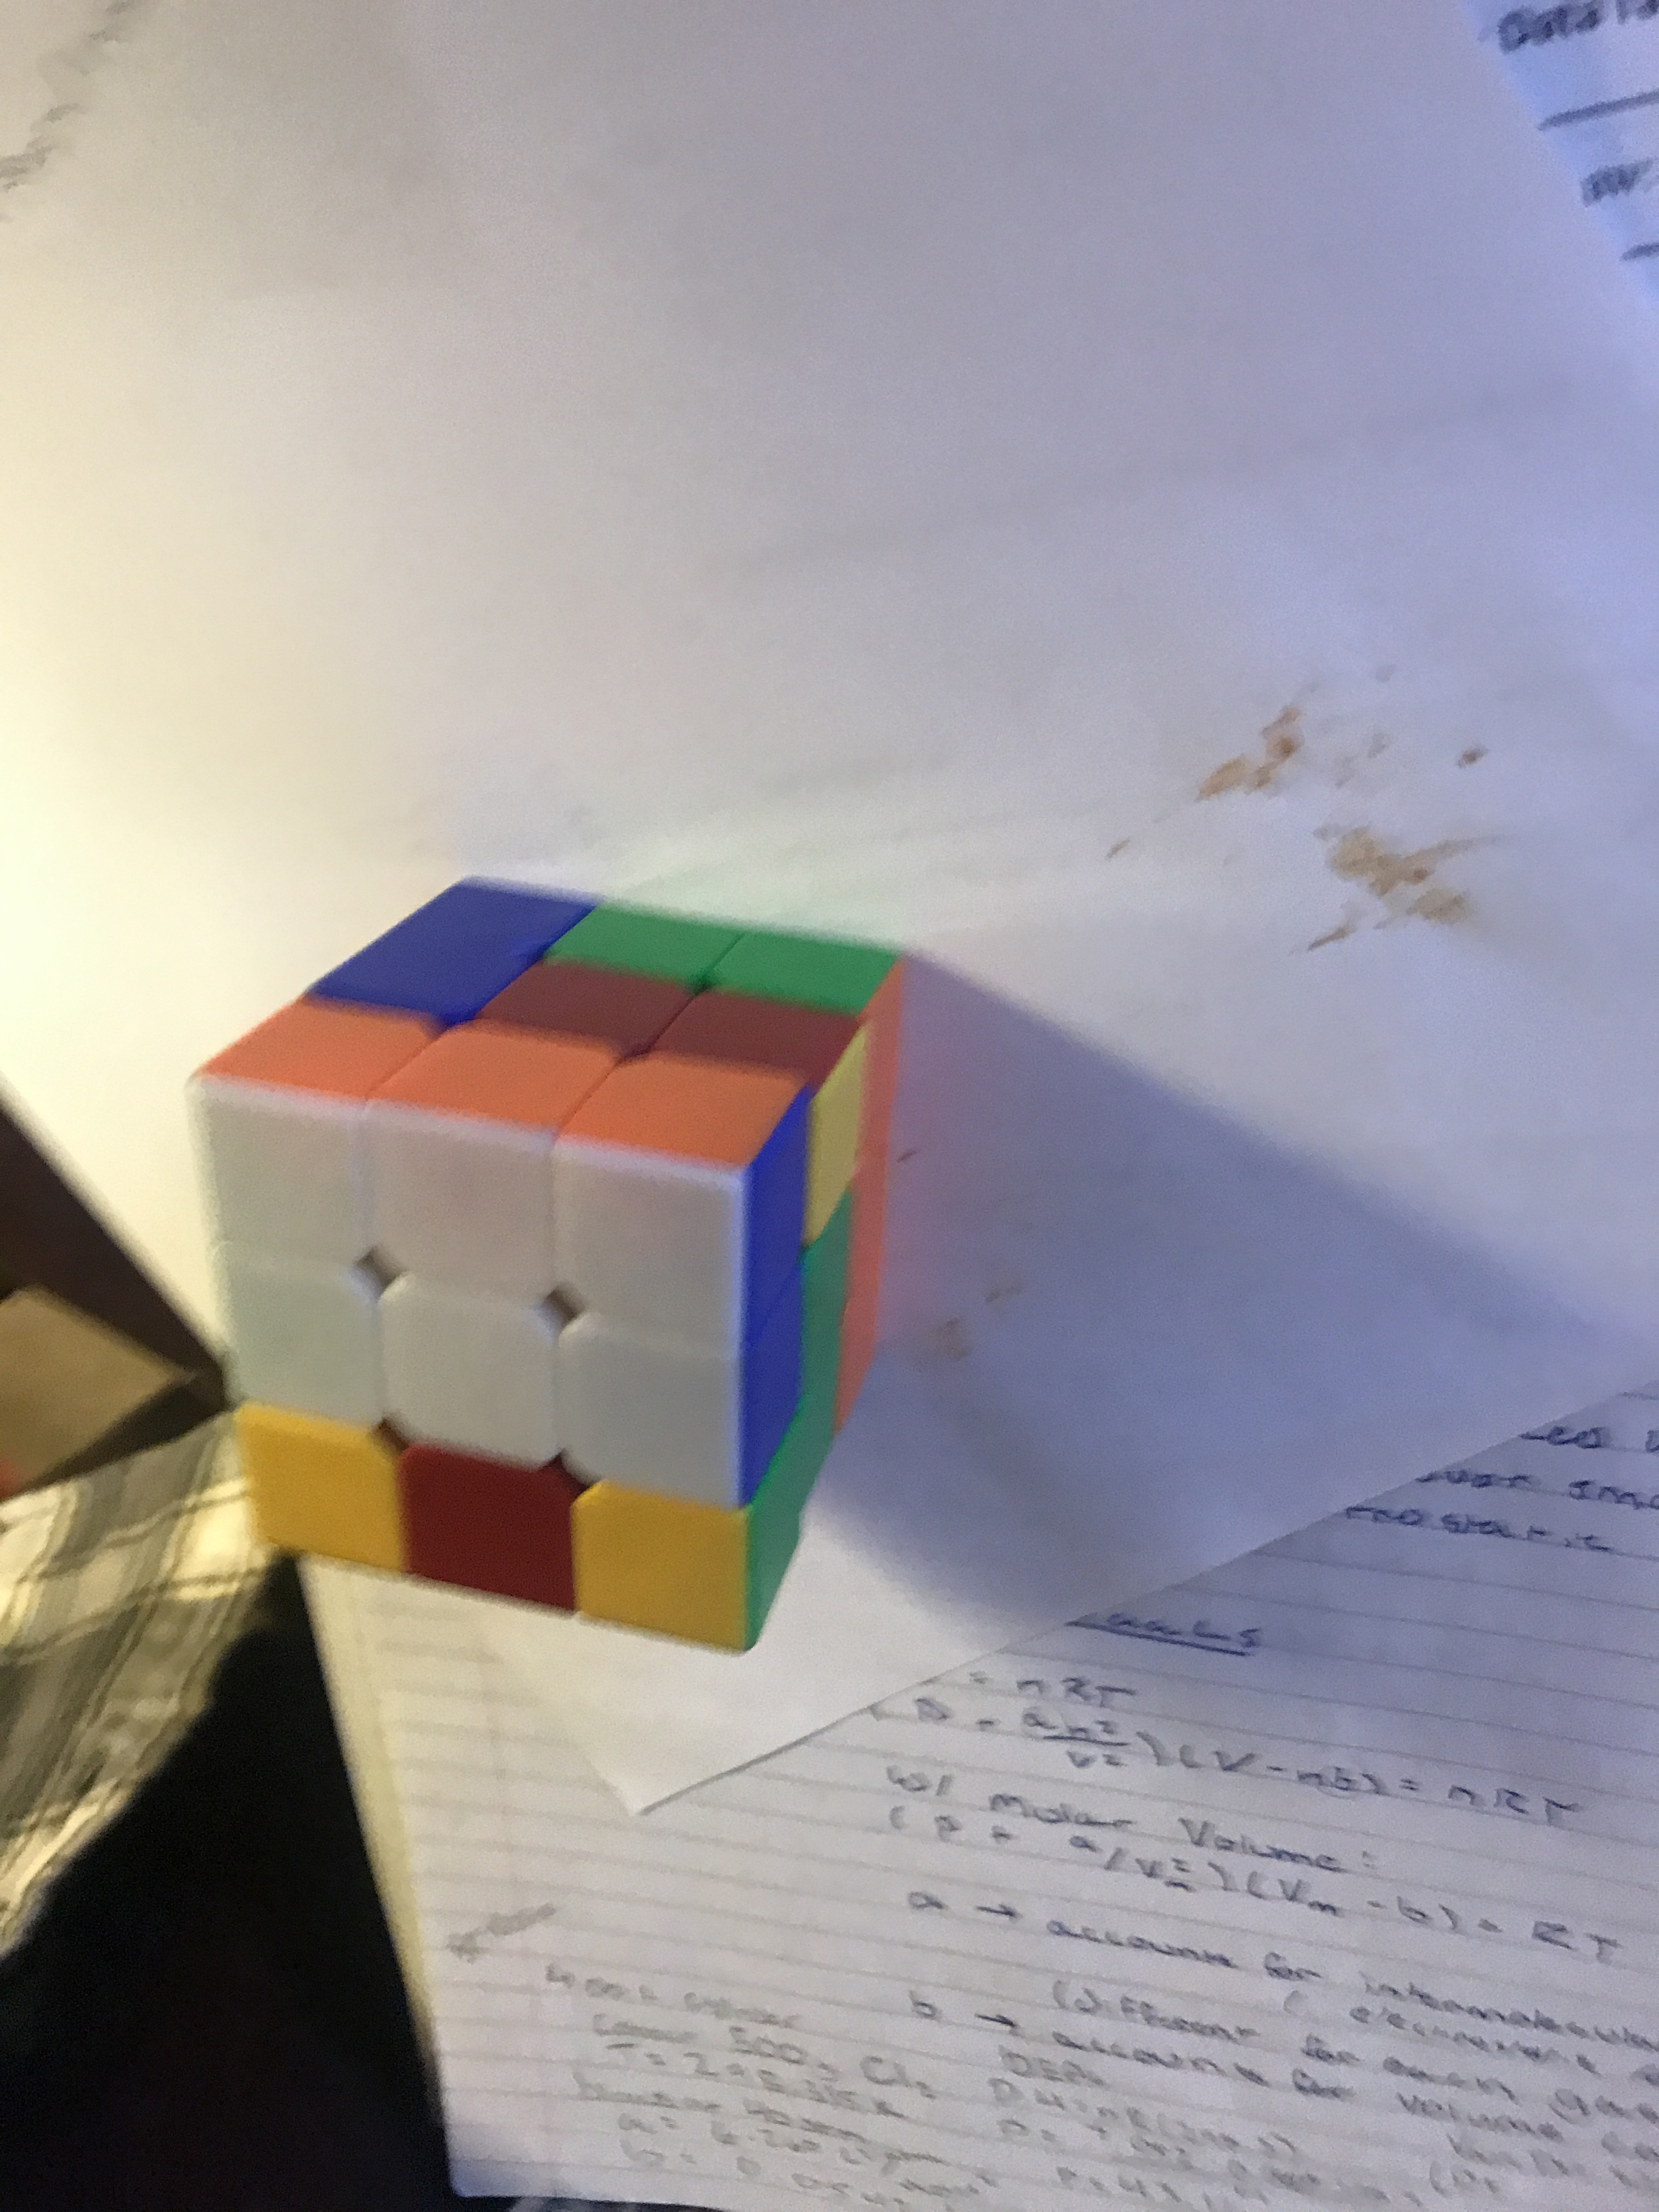rubiks: (183, 869, 911, 1655)
